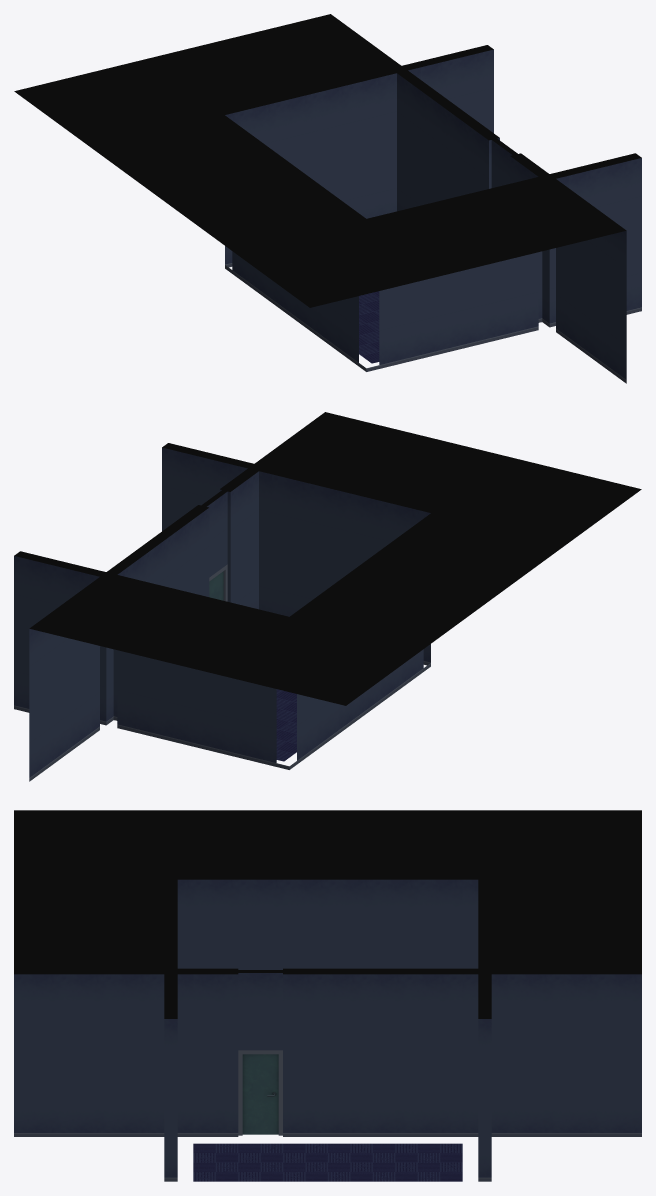
The model's file is MapBuild1.fbx.
3 renders of one model, top to bottom at view 1: azimuth 30°, elevation 25°; view 2: azimuth 150°, elevation 25°; view 3: azimuth 270°, elevation 25°, orthographic. The views are drawn at different scales.
Parts seen in each view (by area): view 1: SM_OfficeWallThickOB_Clone__Clone__13, SM_OfficeWallThickOB_Clone__Clone__12, SM_OfficeWallThick_Clone__Clone__6, SM_OfficeWallThickOB_Clone__Clone__16, SM_OfficeWallThickOB_Clone__Clone__9, SM_OfficeCrossThickOB_Clone__Clone_, SM_OfficeCrossThickOB_Clone__Clone__1, SM_OfficeWallThickOB_Clone__Clone__8, SM_OfficeWallThickOB_Clone__Clone__6, SM_OfficeWallThickOB_Clone__Clone__7, SM_OfficeWallThickOB_Clone__Clone__15, SM_OfficeWallThickOB_Clone__Clone__11 (+93 smaller); view 2: SM_OfficeWallThickOB_Clone__Clone__8, SM_OfficeWallThickOB_Clone__Clone__9, SM_OfficeWallThick_Clone__Clone__8, SM_OfficeCrossThickOB_Clone__Clone__1, SM_OfficeWallThickOB_Clone__Clone__19, SM_OfficeWallThickOB_Clone__Clone__12, SM_OfficeCrossThickOB_Clone__Clone_, SM_OfficeWallThickOB_Clone__Clone__13, SM_OfficeWallThickOB_Clone__Clone__10, SM_OfficeWallThickOB_Clone__Clone__11, SM_OfficeWallThick_Clone__Clone_, SM_OfficeWallThickOB_Clone__Clone__18 (+93 smaller); view 3: SM_OfficeWallThickOB_Clone__Clone__14, SM_OfficeWallThickOB_Clone__Clone__17, SM_OfficeWallThickOB_Clone__Clone__15, SM_OfficeWallThickOB_Clone__Clone__16, SM_OfficeWallThickOB_Clone__Clone__18, SM_OfficeWallThickOB_Clone__Clone__19, SM_OfficeWallThick_Clone__Clone_, SM_OfficeWallThick_Clone__Clone__4, SM_OfficeWallThick_Clone__Clone__1, SM_OfficeWallThick_Clone__Clone__2, SM_OfficeWallThick_Clone__Clone__3, SM_OfficeSingleDoorAvg_WIP_Clone__Clone_ (+104 smaller).
Part boxes in pixels (left/top/right/bottom): SM_OfficeWallThickOB_Clone__Clone__13: left=334, top=66, right=383, bottom=218; SM_OfficeWallThickOB_Clone__Clone__12: left=297, top=75, right=347, bottom=204; SM_OfficeWallThick_Clone__Clone__6: left=599, top=153, right=641, bottom=314; SM_OfficeWallThickOB_Clone__Clone__16: left=582, top=215, right=626, bottom=383; SM_OfficeWallThickOB_Clone__Clone__9: left=452, top=189, right=502, bottom=350; SM_OfficeCrossThickOB_Clone__Clone_: left=525, top=169, right=568, bottom=336; SM_OfficeCrossThickOB_Clone__Clone__1: left=370, top=60, right=420, bottom=214; SM_OfficeWallThickOB_Clone__Clone__8: left=489, top=180, right=538, bottom=341; SM_OfficeWallThickOB_Clone__Clone__6: left=379, top=207, right=429, bottom=368; SM_OfficeWallThickOB_Clone__Clone__7: left=416, top=198, right=465, bottom=359; SM_OfficeWallThickOB_Clone__Clone__15: left=561, top=199, right=605, bottom=368; SM_OfficeWallThickOB_Clone__Clone__11: left=261, top=84, right=310, bottom=177; SM_OfficeWallThickOB_Clone__Clone__8: left=272, top=464, right=321, bottom=616; SM_OfficeWallThickOB_Clone__Clone__9: left=308, top=473, right=358, bottom=602; SM_OfficeWallThick_Clone__Clone__8: left=14, top=551, right=56, bottom=712; SM_OfficeCrossThickOB_Clone__Clone__1: left=87, top=567, right=130, bottom=734; SM_OfficeWallThickOB_Clone__Clone__19: left=29, top=613, right=73, bottom=781; SM_OfficeWallThickOB_Clone__Clone__12: left=153, top=587, right=203, bottom=748; SM_OfficeCrossThickOB_Clone__Clone_: left=235, top=458, right=285, bottom=612; SM_OfficeWallThickOB_Clone__Clone__13: left=117, top=578, right=166, bottom=739; SM_OfficeWallThickOB_Clone__Clone__10: left=226, top=605, right=276, bottom=766; SM_OfficeWallThickOB_Clone__Clone__11: left=190, top=596, right=239, bottom=757; SM_OfficeWallThick_Clone__Clone_: left=219, top=474, right=251, bottom=607; SM_OfficeWallThickOB_Clone__Clone__18: left=50, top=597, right=94, bottom=766; SM_OfficeWallThickOB_Clone__Clone__14: left=103, top=962, right=148, bottom=1136; SM_OfficeWallThickOB_Clone__Clone__17: left=507, top=962, right=552, bottom=1136; SM_OfficeWallThickOB_Clone__Clone__15: left=59, top=962, right=103, bottom=1136; SM_OfficeWallThickOB_Clone__Clone__16: left=14, top=962, right=58, bottom=1136; SM_OfficeWallThickOB_Clone__Clone__18: left=552, top=962, right=596, bottom=1136; SM_OfficeWallThickOB_Clone__Clone__19: left=597, top=962, right=641, bottom=1136; SM_OfficeWallThick_Clone__Clone_: left=193, top=968, right=238, bottom=1136; SM_OfficeWallThick_Clone__Clone__4: left=417, top=968, right=462, bottom=1136; SM_OfficeWallThick_Clone__Clone__1: left=283, top=968, right=327, bottom=1136; SM_OfficeWallThick_Clone__Clone__2: left=328, top=968, right=372, bottom=1136; SM_OfficeWallThick_Clone__Clone__3: left=373, top=968, right=417, bottom=1136; SM_OfficeSingleDoorAvg_WIP_Clone__Clone_: left=238, top=970, right=282, bottom=1135.
Size of the model in its own units: 1100 by 400 by 1400.
Materials: 7 (6 with a texture image).
